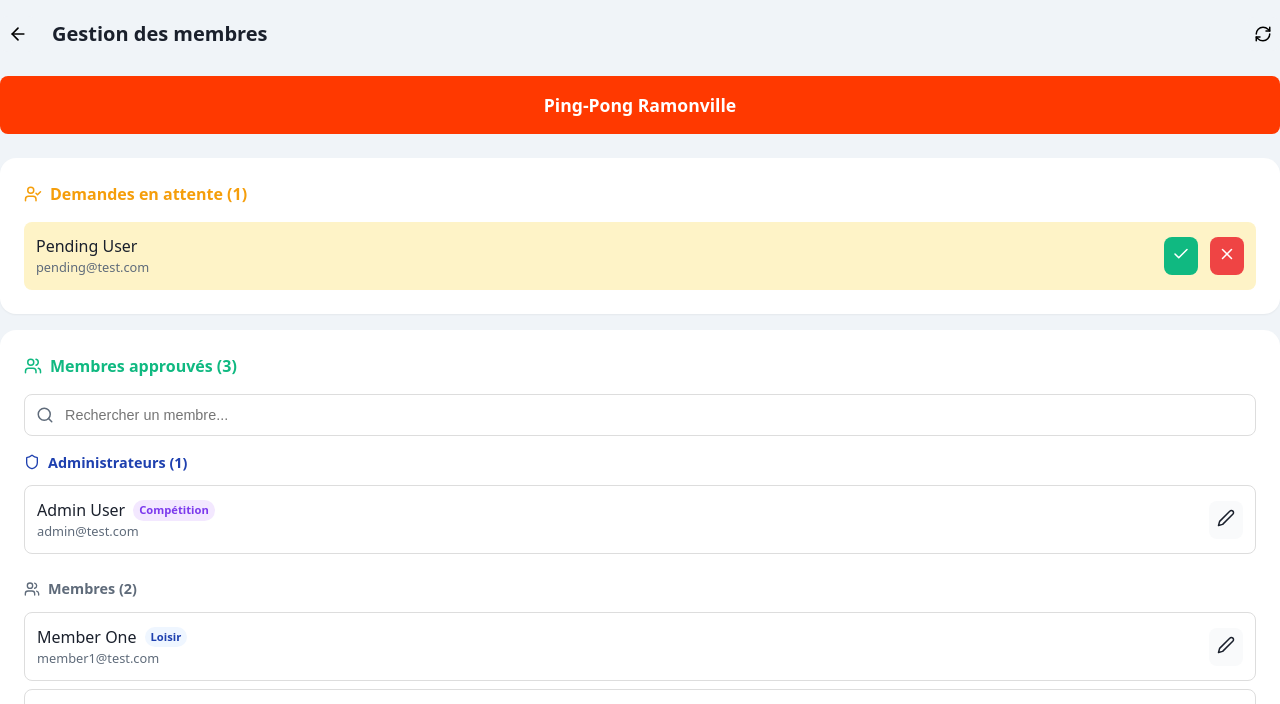
Test case: AdminPanel › affiche le nom du membre dans la modal édition
Click the button titled "Modifier" in the row of "Loisir" at (1226, 647), box 1209,628 -> 1243,666
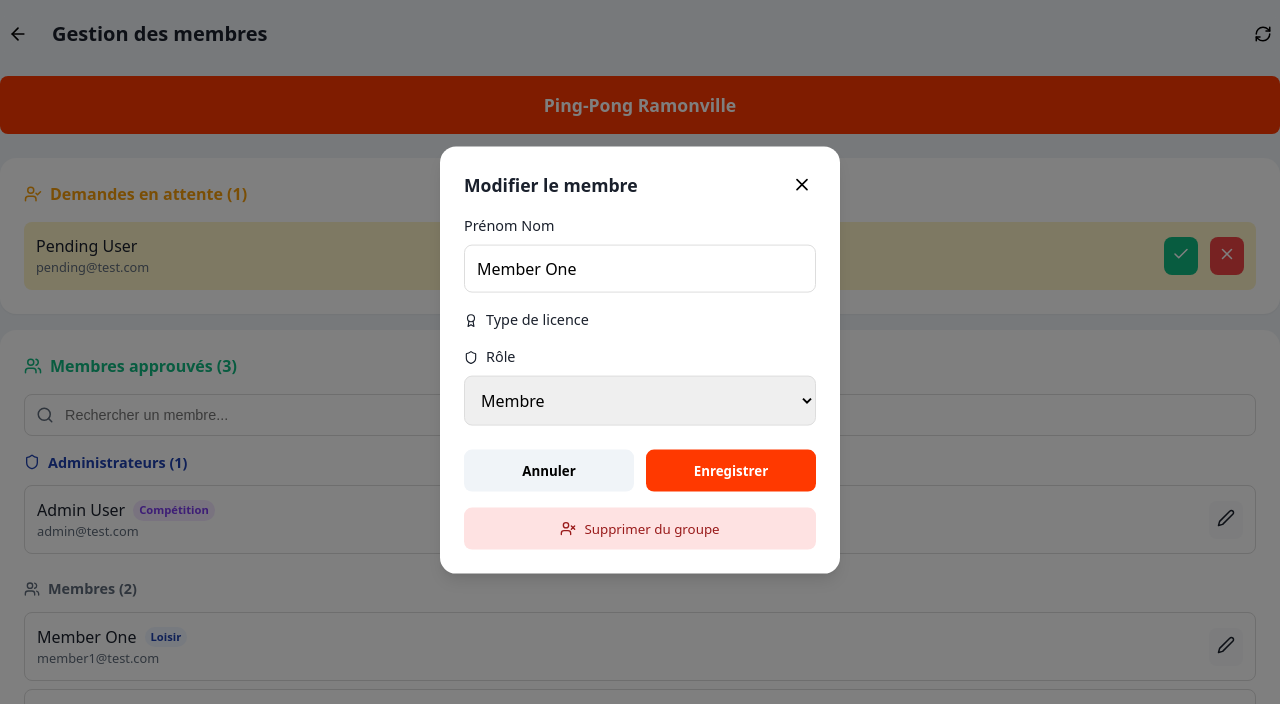
Check: the heading "Modifier le membre" is shown, box 464,171 -> 638,198
Check: the field holds "Member One", box 464,244 -> 816,292
